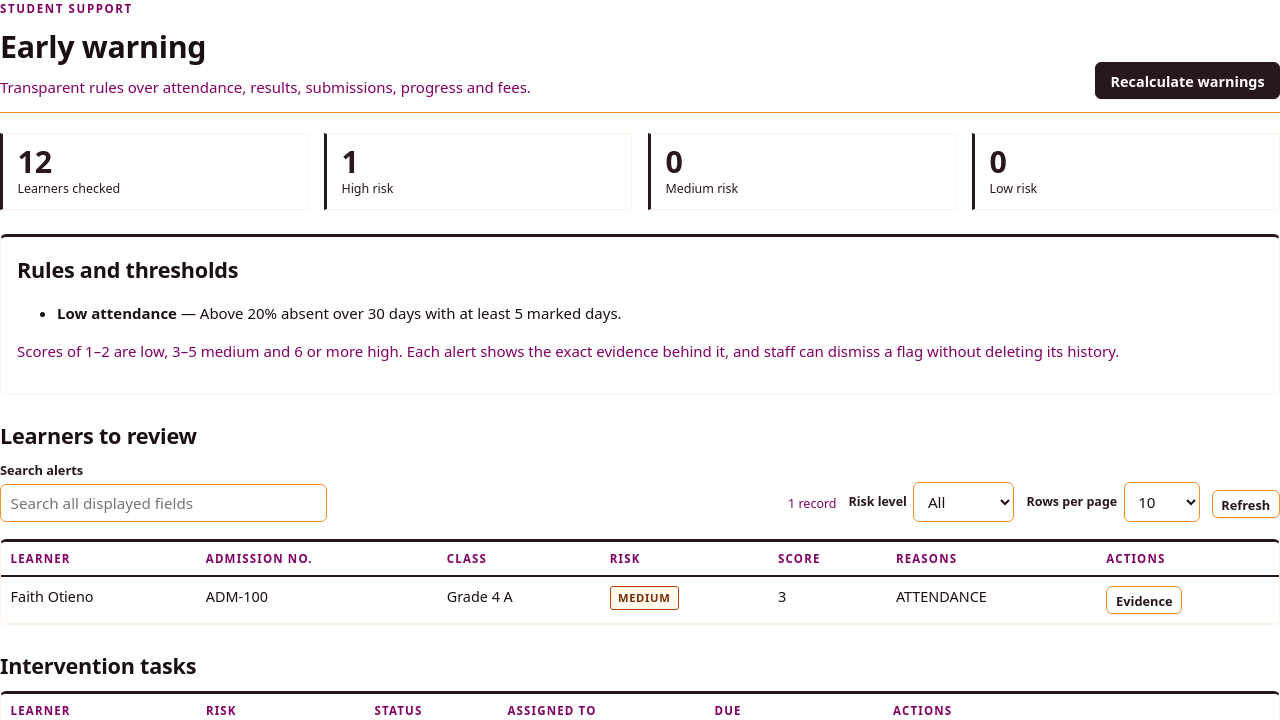
Test: early warning dashboard › shows the exact evidence behind a flag
Check: the list item "Above 20% absent over 30 days" is shown, box [200,303,622,323]
Click the button with aria-label "View evidence for Faith Otieno" at (1144, 600), box [1106,586,1182,614]
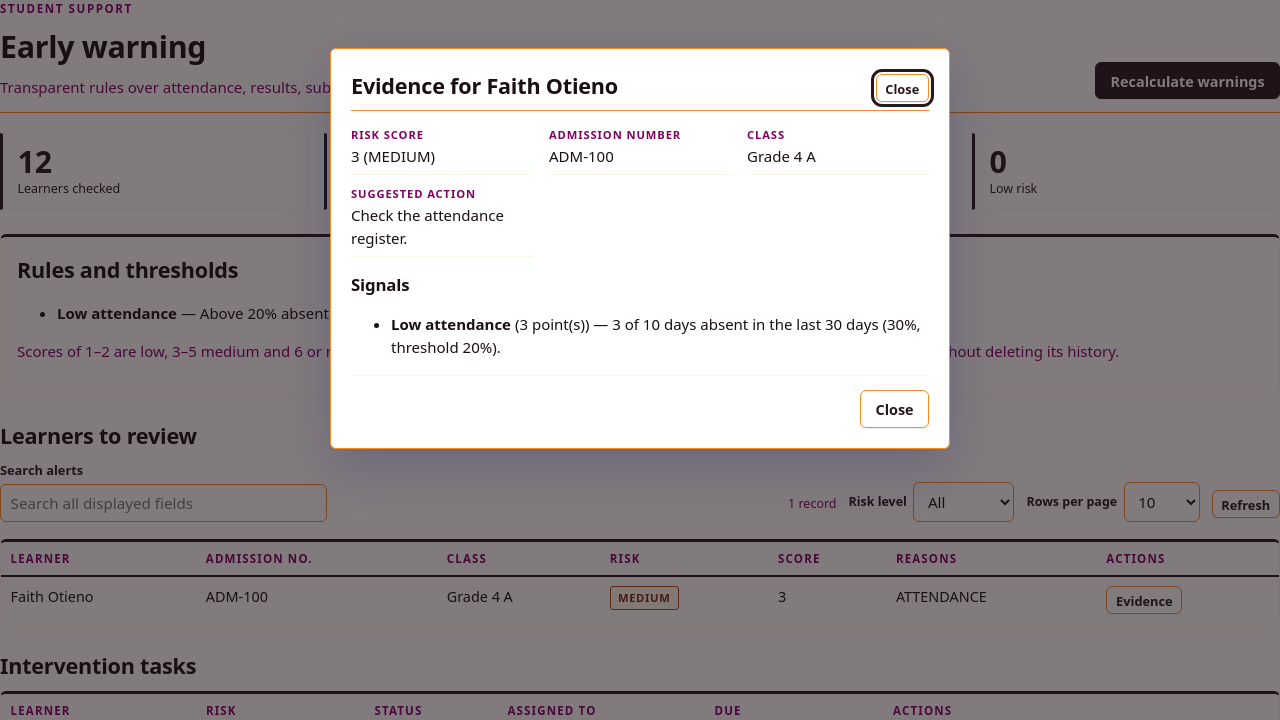
Check: the list item "3 of 10 days absent" is shown, box [391,314,921,357]
Check: the text "Check the attendance register." is shown, box [351,205,504,248]
